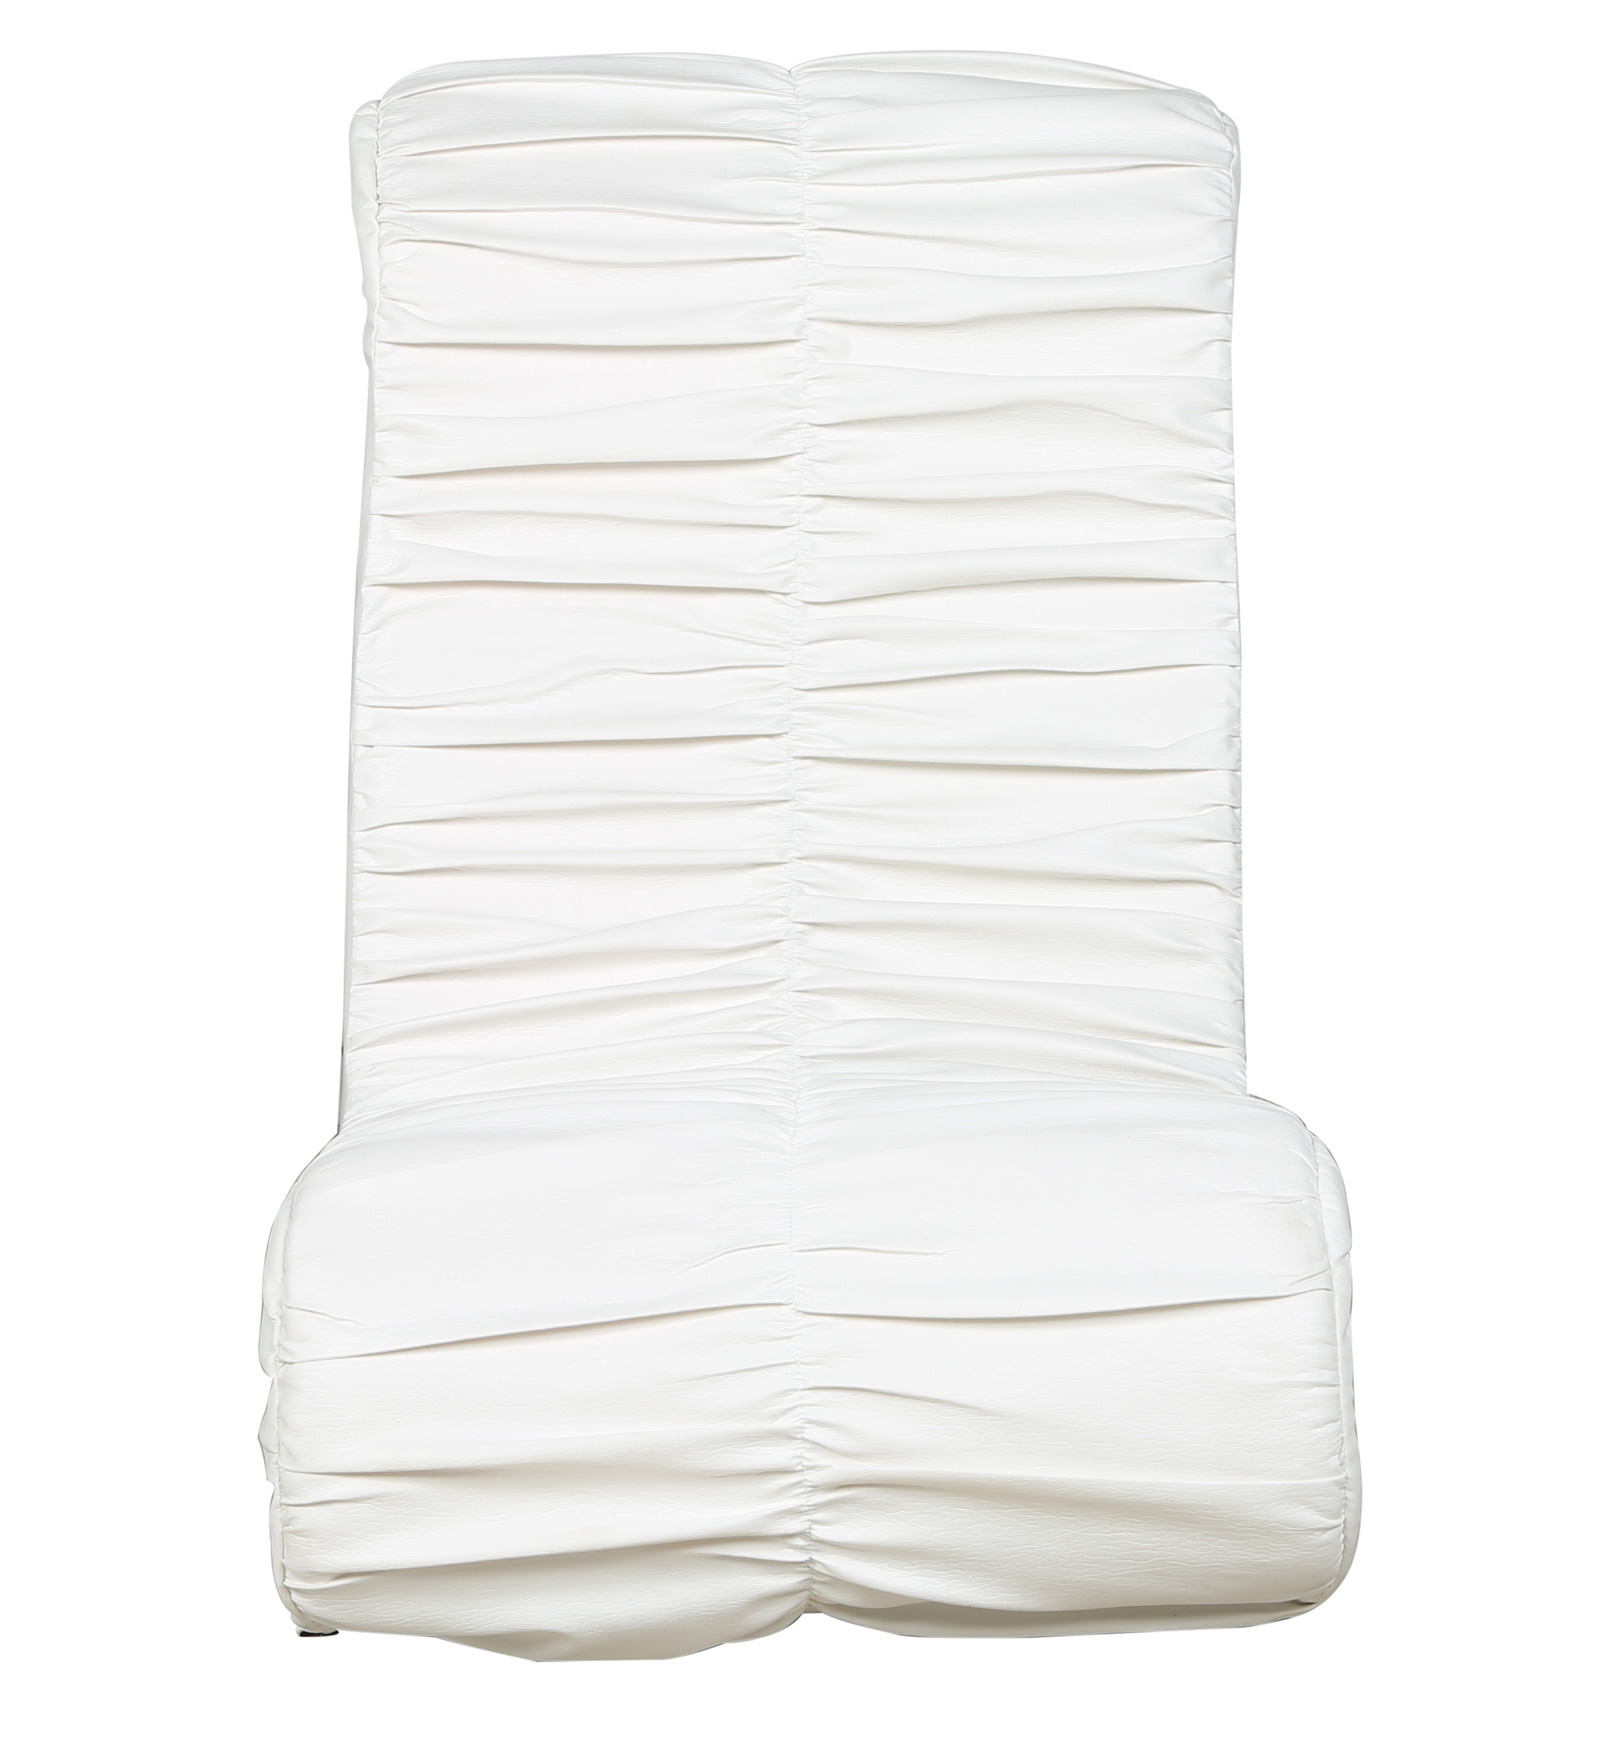Daisy Rocking Chair in White Colour by Parin: (225, 38, 1411, 1716)
